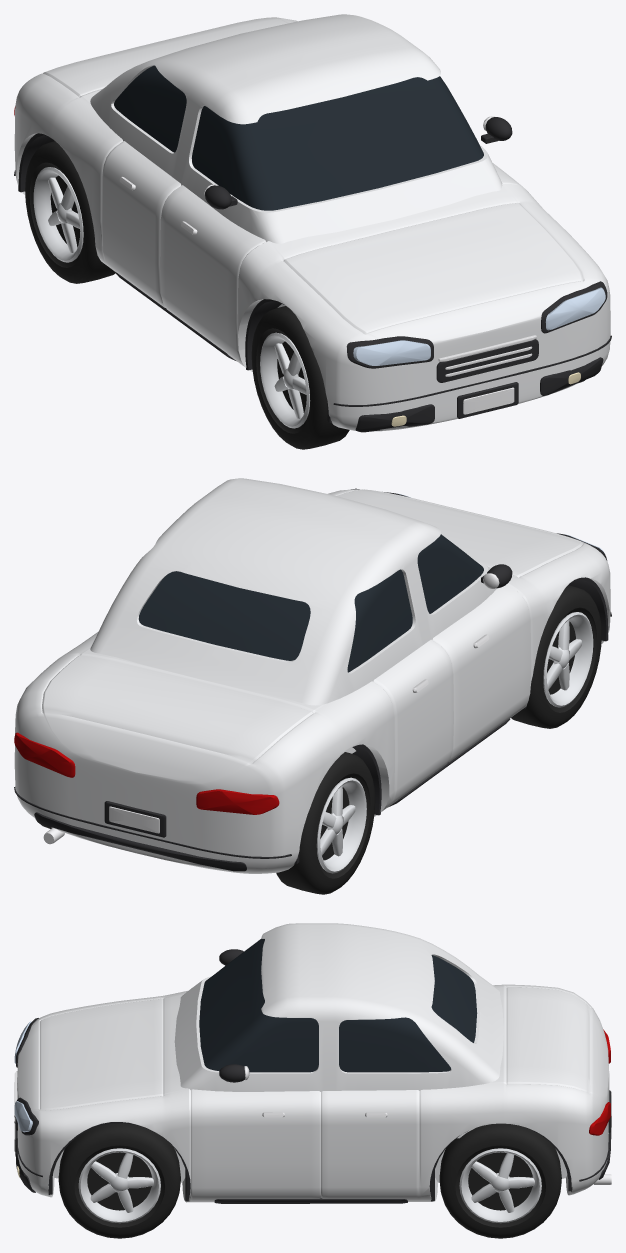
The model's file is sedan.glb.
3 views of the same model, one above another, from view 1: azimuth 30°, elevation 25°; view 2: azimuth 150°, elevation 25°; view 3: azimuth 270°, elevation 25° (orthographic). The views are drawn at different scales.
Visible parts, largest first — view 1: body, glass, trim, wheel-front-right, wheel-back-right, lights; view 2: body, glass, wheel-back-right, wheel-front-right, trim, lights; view 3: body, glass, wheel-front-left, wheel-back-left, trim, lights.
Boxes of the visible parts, x1,y1,x2,y2 form: body: (14,14,610,431); glass: (114,65,483,210); trim: (14,116,611,432); wheel-front-right: (251,306,349,449); wheel-back-right: (25,141,115,283); lights: (14,106,605,426); body: (14,478,610,873); glass: (138,534,483,672); wheel-back-right: (276,752,375,894); wheel-front-right: (511,585,601,728); trim: (14,488,611,871); lights: (14,493,604,814); body: (17,923,609,1202); glass: (199,939,477,1072); wheel-front-left: (58,1123,180,1238); wheel-back-left: (439,1123,561,1238); trim: (14,949,611,1203); lights: (14,1021,610,1177).
Size of the model in its own units: 1.48 by 1.26 by 3.03.
